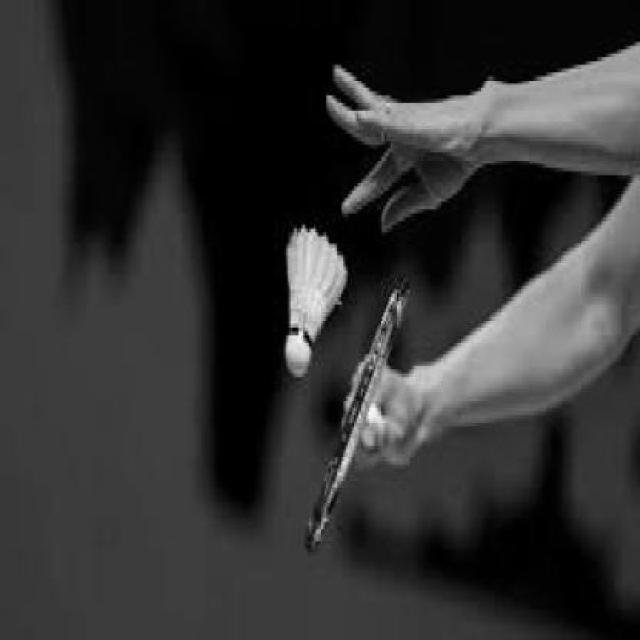Shuttlecock: (284, 224, 346, 378)
